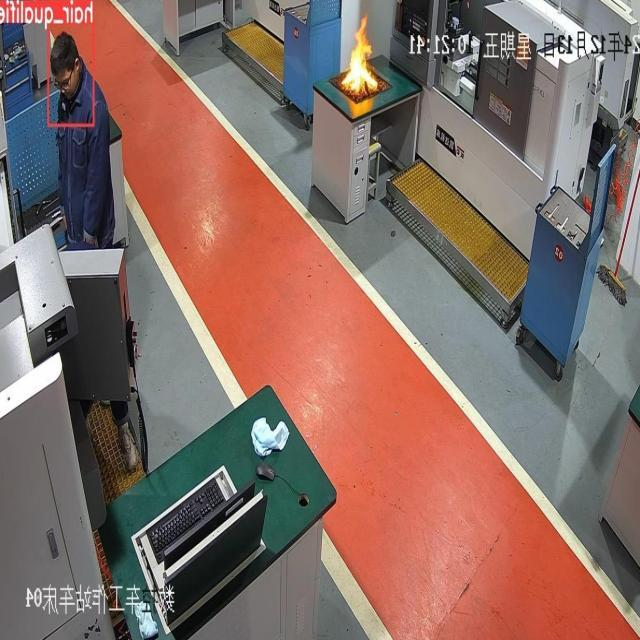smoke: (339, 12, 380, 99), (582, 193, 592, 215)
